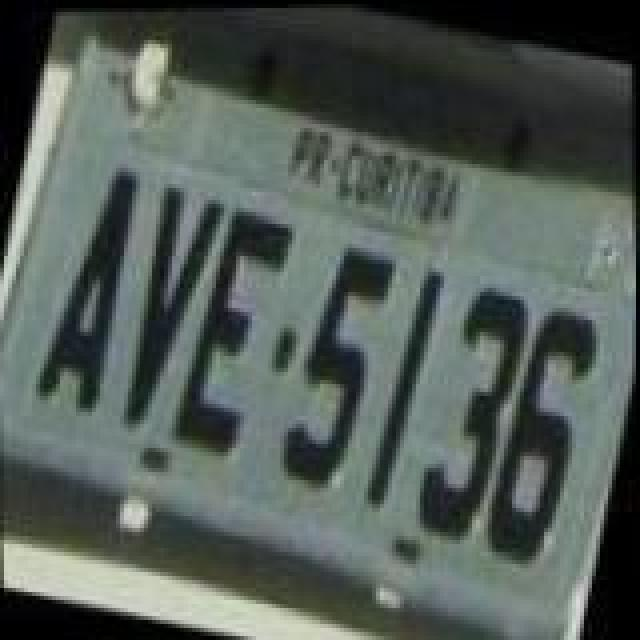1: (356, 258, 456, 510)
3: (398, 270, 542, 546)
5: (264, 234, 404, 494)
6: (472, 292, 616, 568)
A: (22, 158, 158, 422)
E: (160, 192, 304, 464)
V: (108, 180, 236, 444)
